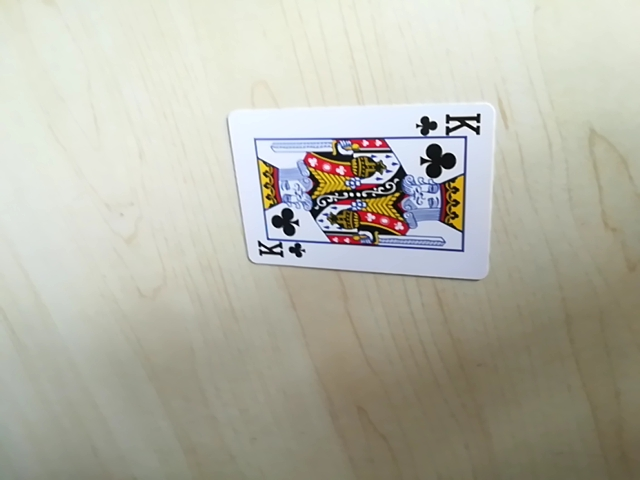mh k: (419, 109, 483, 139), (250, 237, 306, 263)
